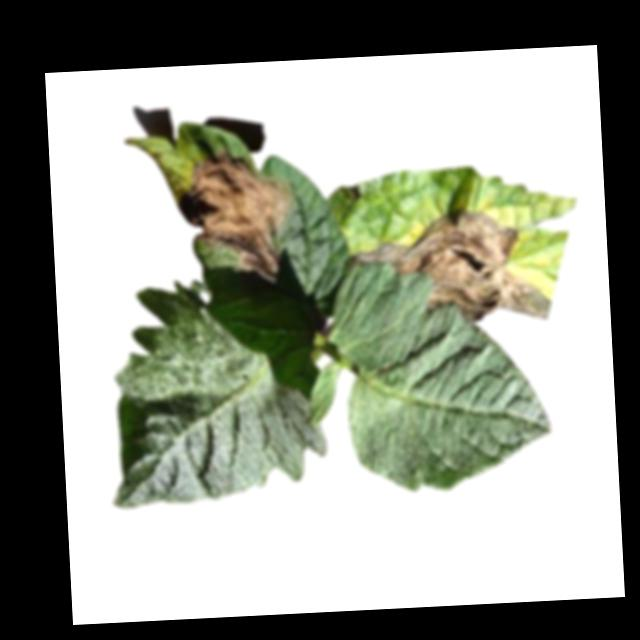Late_blight: (346, 202, 552, 331), (175, 141, 298, 281)
healthy: (329, 253, 556, 498), (101, 272, 335, 509)
